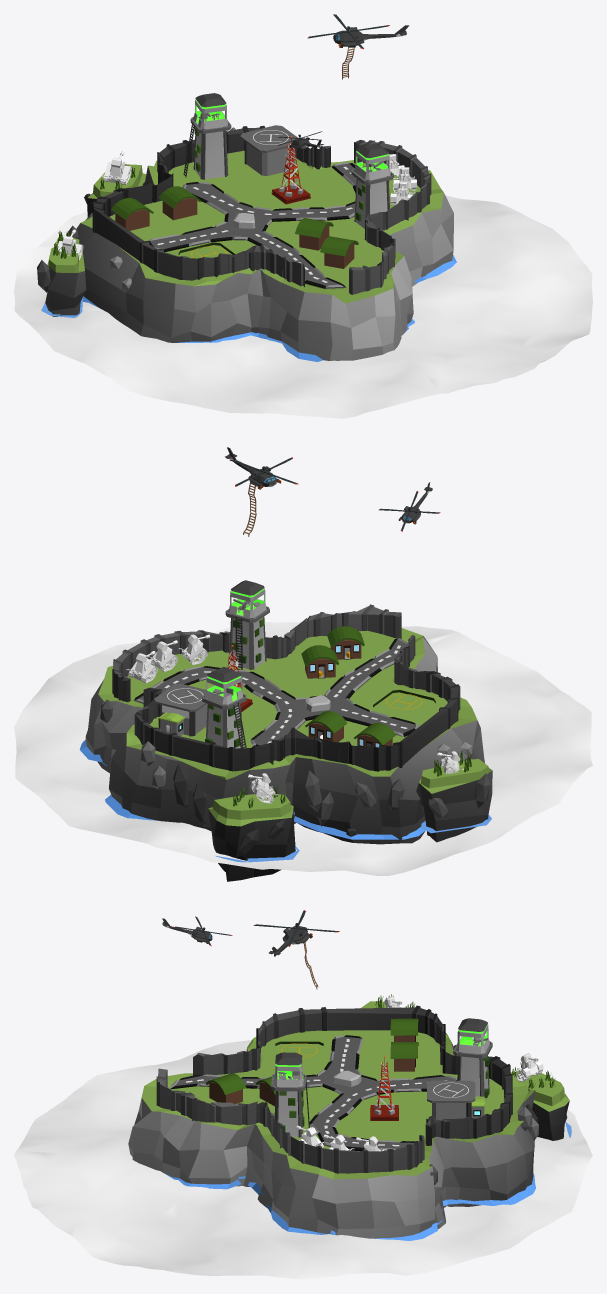
The model's file is military-base.glb.
3 views of the same model, one above another, from view 1: azimuth 30°, elevation 25°; view 2: azimuth 150°, elevation 25°; view 3: azimuth 270°, elevation 25° (orthographic). The views are drawn at different scales.
Visible parts, largest first — view 1: World9-Miitary, Plane; view 2: World9-Miitary, Plane; view 3: World9-Miitary, Plane.
Boxes of the visible parts, bbox=[...] form: World9-Miitary: bbox=[37, 14, 456, 361]; Plane: bbox=[14, 195, 592, 418]; World9-Miitary: bbox=[79, 447, 492, 881]; Plane: bbox=[14, 621, 592, 875]; World9-Miitary: bbox=[128, 910, 571, 1240]; Plane: bbox=[14, 1040, 592, 1279].
Size of the model in its own units: 23.85 by 12.94 by 24.
Materials: 4 (2 with a texture image).
